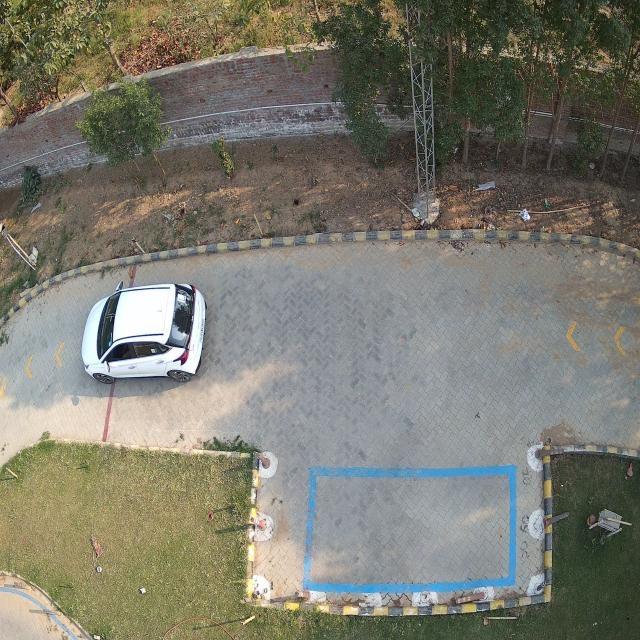car: (81, 283, 209, 385)
